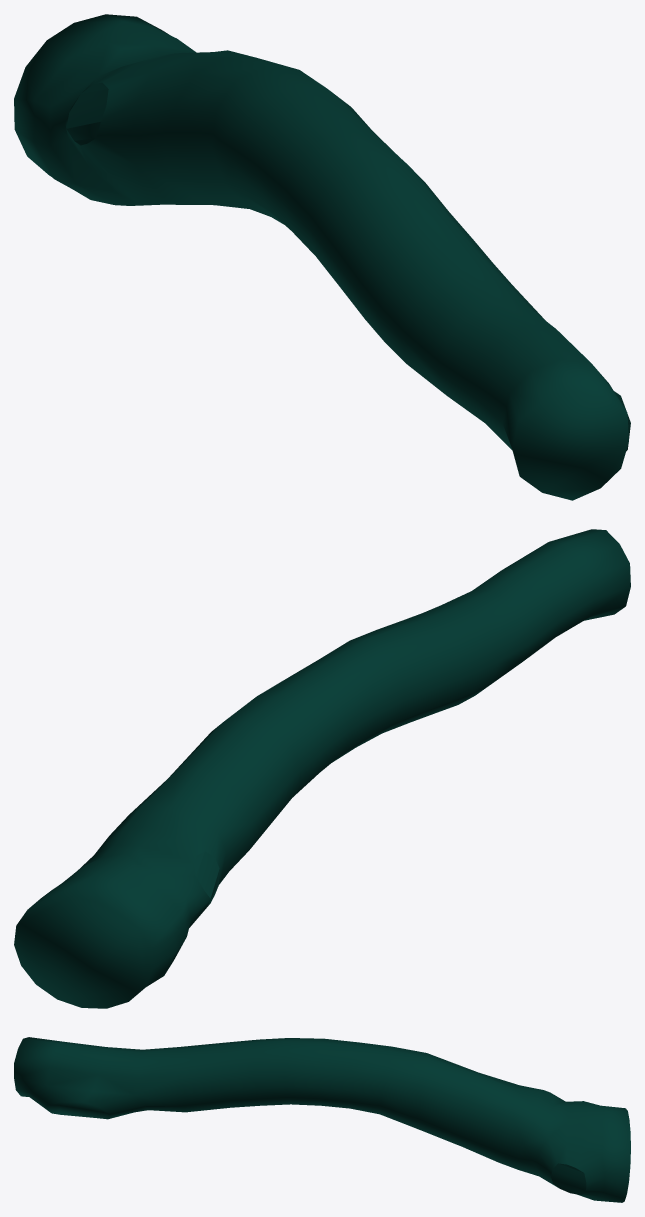
File: Aorta_in.fbx
3 views of the same model, one above another, from view 1: azimuth 30°, elevation 25°; view 2: azimuth 150°, elevation 25°; view 3: azimuth 270°, elevation 25° (orthographic). The views are drawn at different scales.
Visible parts, largest first — view 1: Aorta_in; view 2: Aorta_in; view 3: Aorta_in.
Boxes of the visible parts, bbox=[...] form: Aorta_in: bbox=[14, 14, 630, 500]; Aorta_in: bbox=[14, 529, 630, 1008]; Aorta_in: bbox=[14, 1037, 630, 1202].
Size of the model in its own units: 26.72 by 27.01 by 107.
